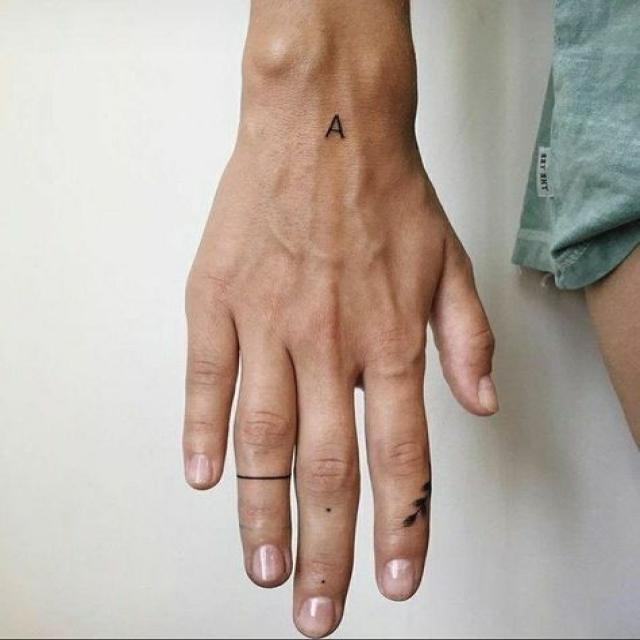Fingernail: (298, 596, 335, 637), (383, 558, 415, 600), (252, 545, 285, 582), (479, 374, 500, 413), (188, 453, 213, 482)
